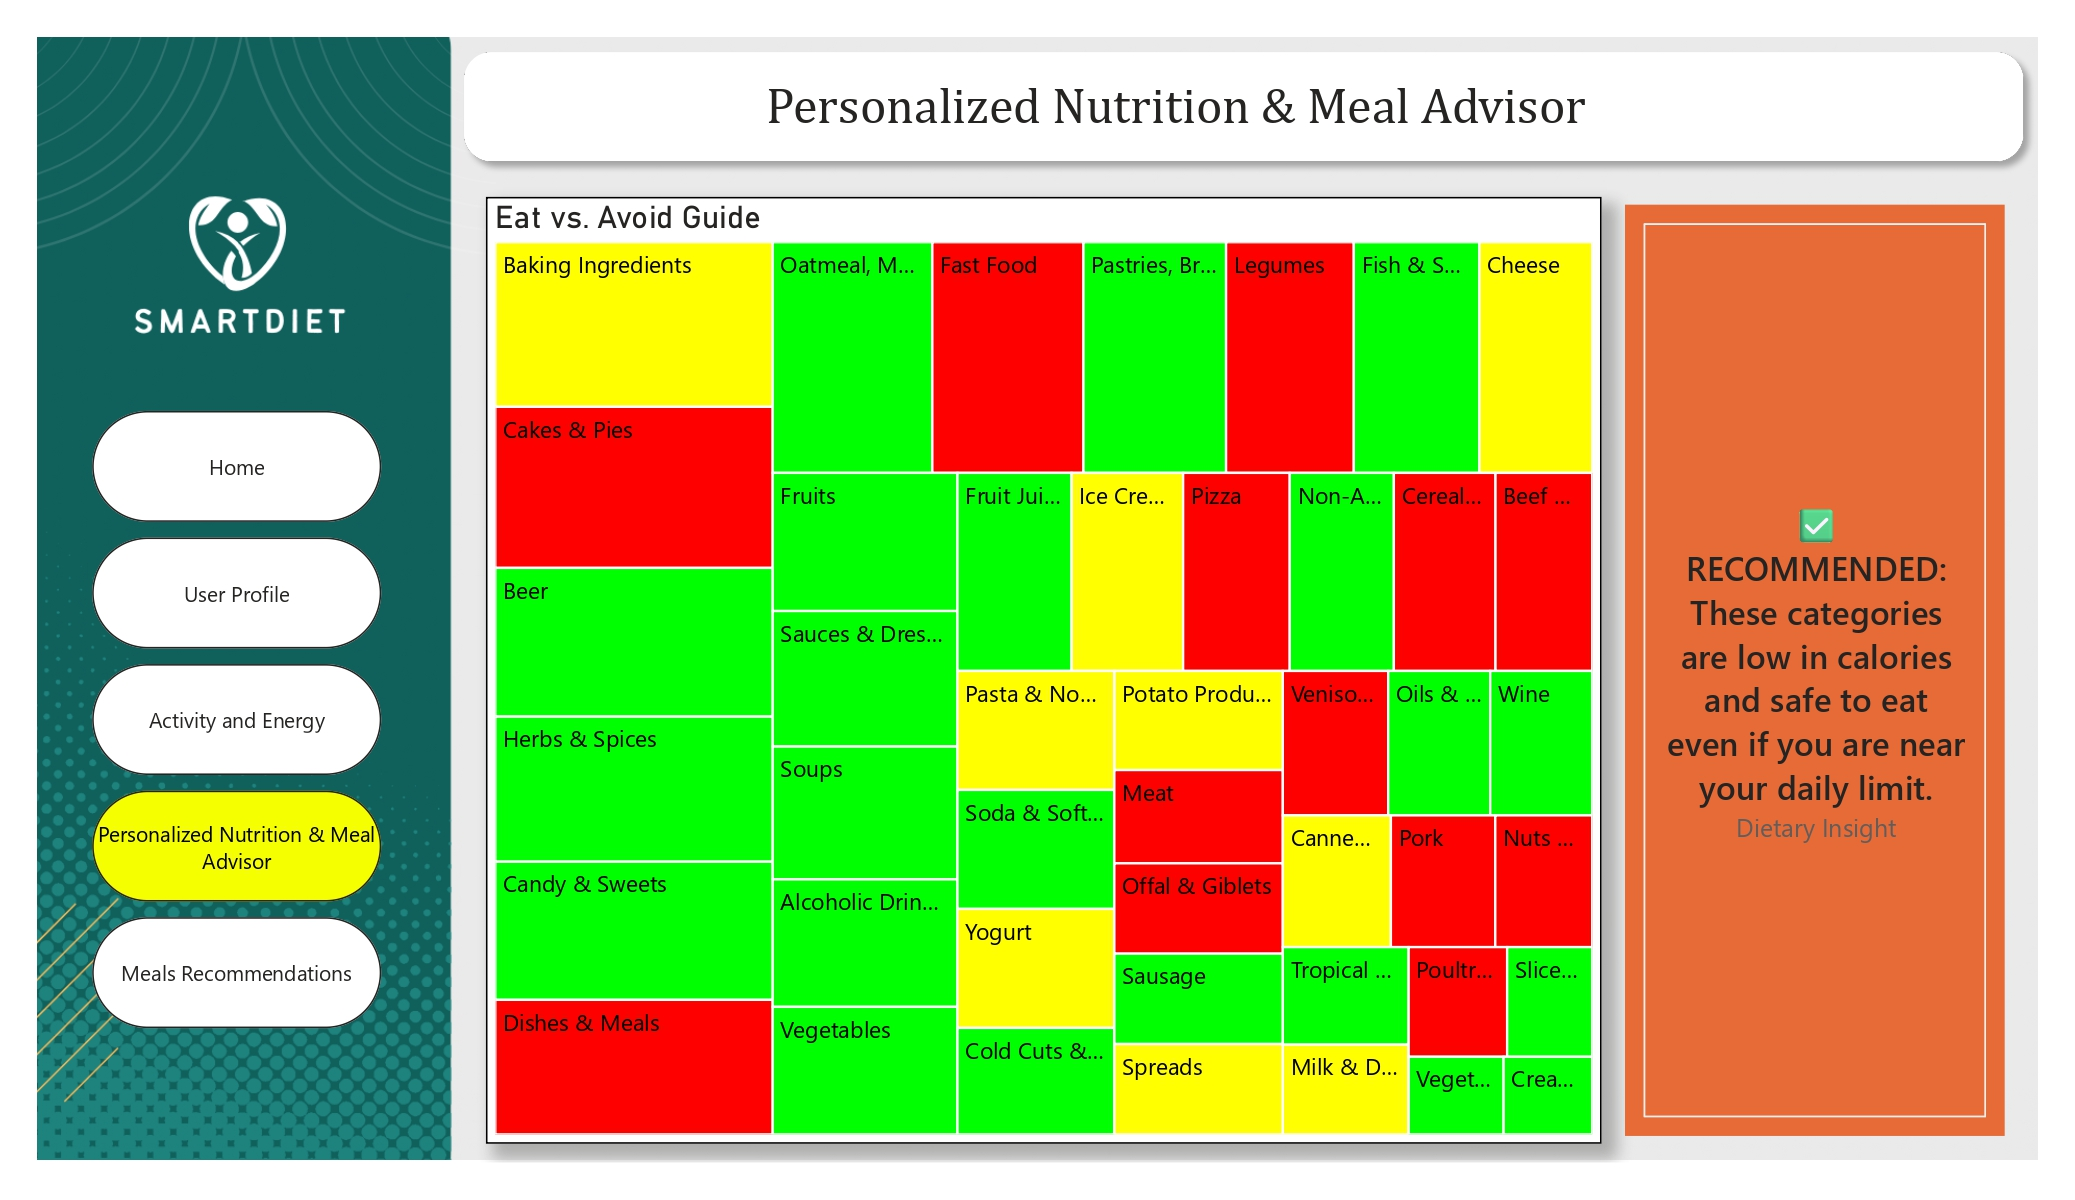

Layout of this report page (visuals, bound fields, positions):
{"tool":"powerbi","page":{"name":"Personalized Nutrition & Meal Advisor","canvas":[1280,720],"ordinal":3},"visuals":[{"type":"treemap","title":"Eat vs. Avoid Guide","fields":{"Group":["food_calorie_cleaned.food_category"],"Values":["CountNonNull(food_calorie_cleaned.kj_per_serving)"]},"box":[253.4,195.8,997.9,270.7],"z":0},{"type":"gauge","title":"Calorie Intake vs Daily Budget","fields":{"MaxValue":["Measure_Table.TDEE Calories"],"Y":["Measure_Table.Selected_Food_Calories"]},"box":[253.4,87.8,462.2,97.9],"z":1000},{"type":"cardVisual","fields":{"Data":["Measure_Table.Food Status Message"]},"box":[727.2,87.8,524.2,97.9],"z":2000},{"type":"tableEx","title":"Menu Recommendations & Healthy Swaps","fields":{"Values":["food_calorie_cleaned.food_item","food_calorie_cleaned.per_serving","Measure_Table.Food - Avg Cal per Serving"]},"box":[253.4,479.5,997.9,226.1],"z":8000},{"type":"shape","box":[238.9,0,1041.1,87.8],"z":9000},{"type":"textbox","box":[373,18.7,760.3,50.4],"z":10000},{"type":"pageNavigator","box":[18.7,190.1,197.3,445],"z":11000}]}

Visuals, with their boxes on the page's 1280x720 design canvas (x1, y1, x2, y2). These are canvas units, not pixel positions in the 2075x1200 screenshot, which may show the page scaled, cropped or inside an application window:
"Eat vs. Avoid Guide" treemap: l=253, t=196, r=1251, b=466
"Calorie Intake vs Daily Budget" gauge: l=253, t=88, r=716, b=186
cardVisual - Measure_Table.Food Status Message: l=727, t=88, r=1251, b=186
"Menu Recommendations & Healthy Swaps" tableEx: l=253, t=480, r=1251, b=706
shape: l=239, t=0, r=1280, b=88
textbox: l=373, t=19, r=1133, b=69
pageNavigator: l=19, t=190, r=216, b=635
